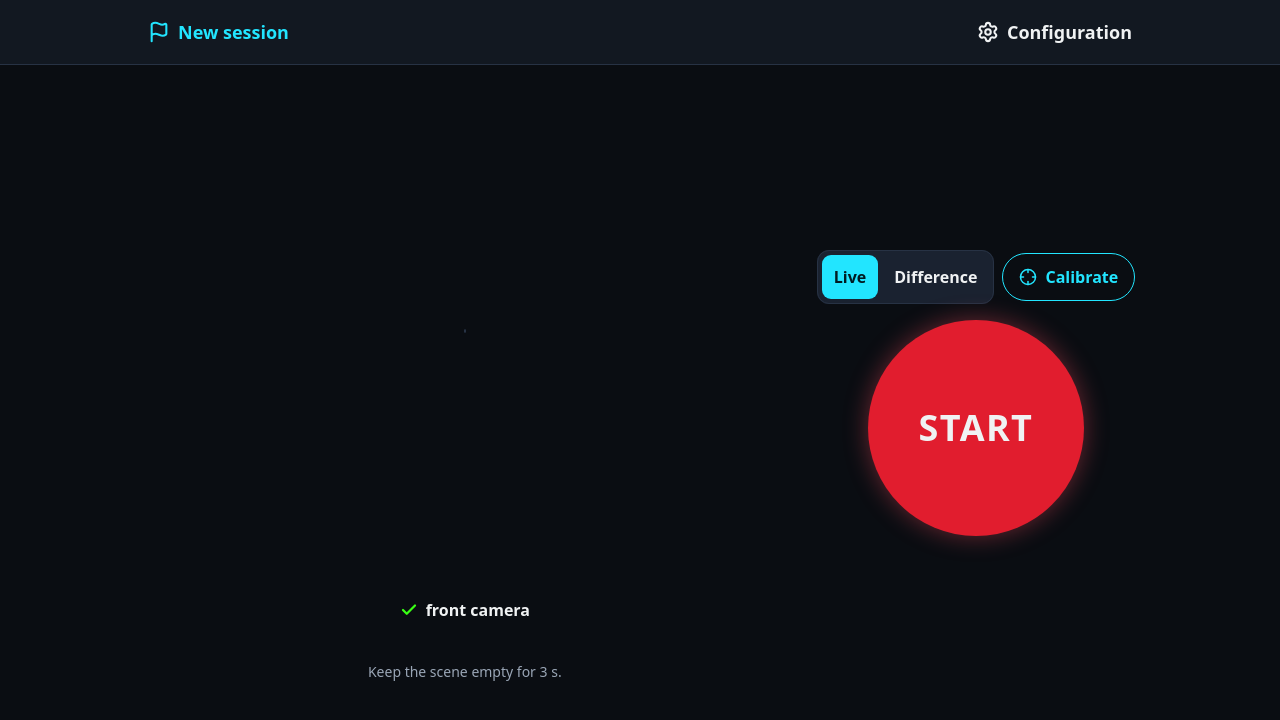
Test: Get Ready preview and Calibrate › Difference in sim mode shows a placeholder
Click the button "Difference" at (936, 276), box [882,254,990,298]
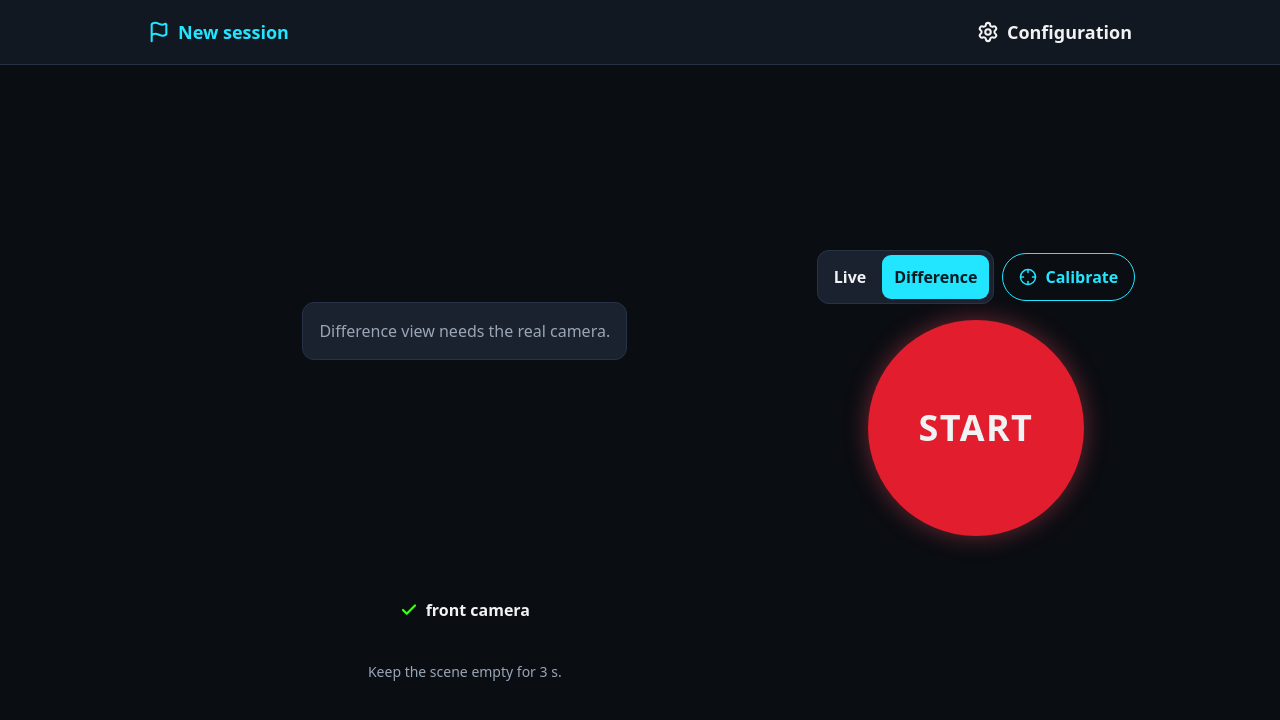
Result: the text "Difference view needs the real camera." is shown at [302,302,627,360]
